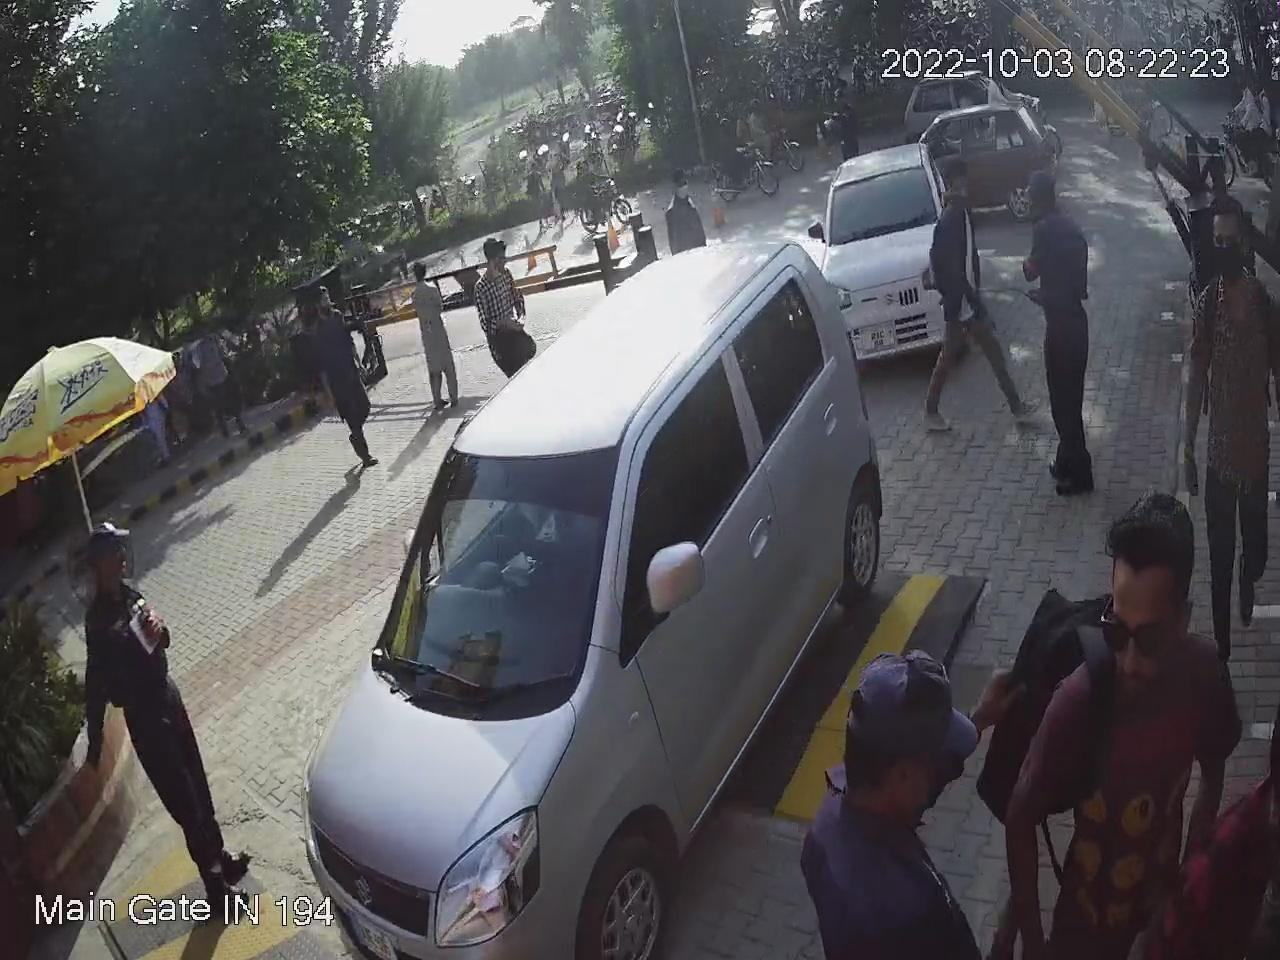windshield: (368, 443, 633, 700)
